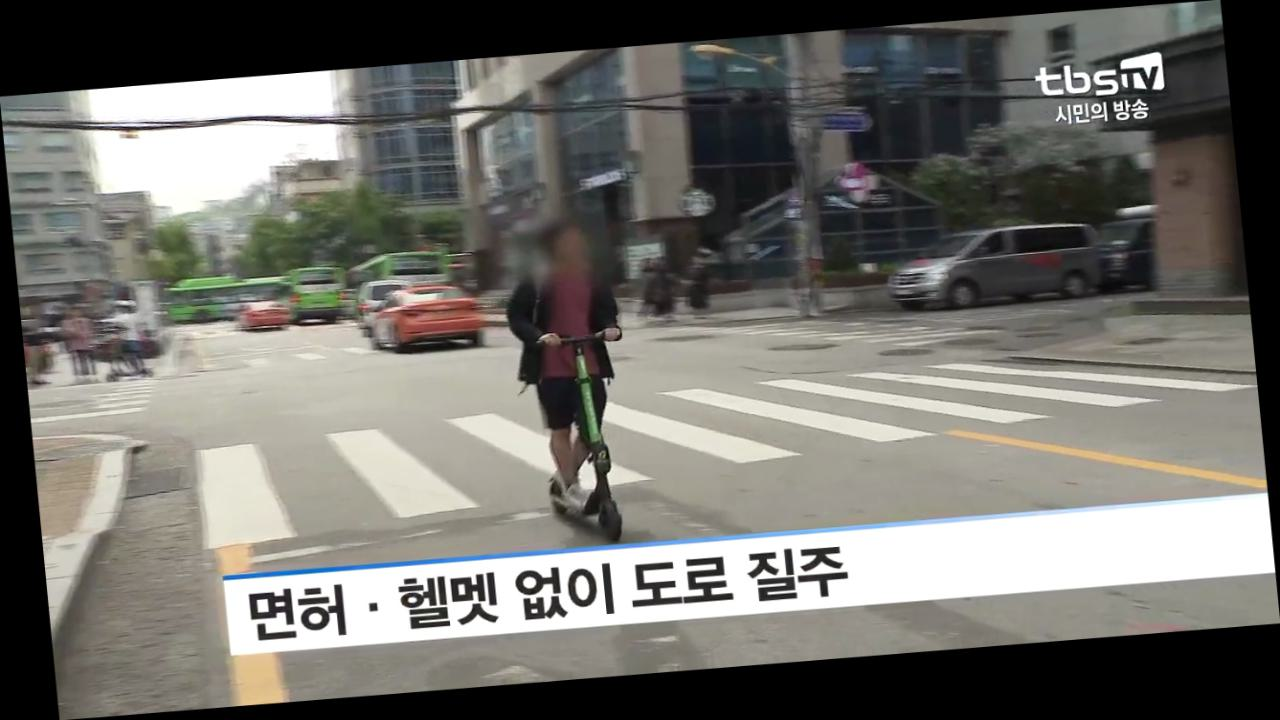nonhelmet: (498, 214, 648, 548)
